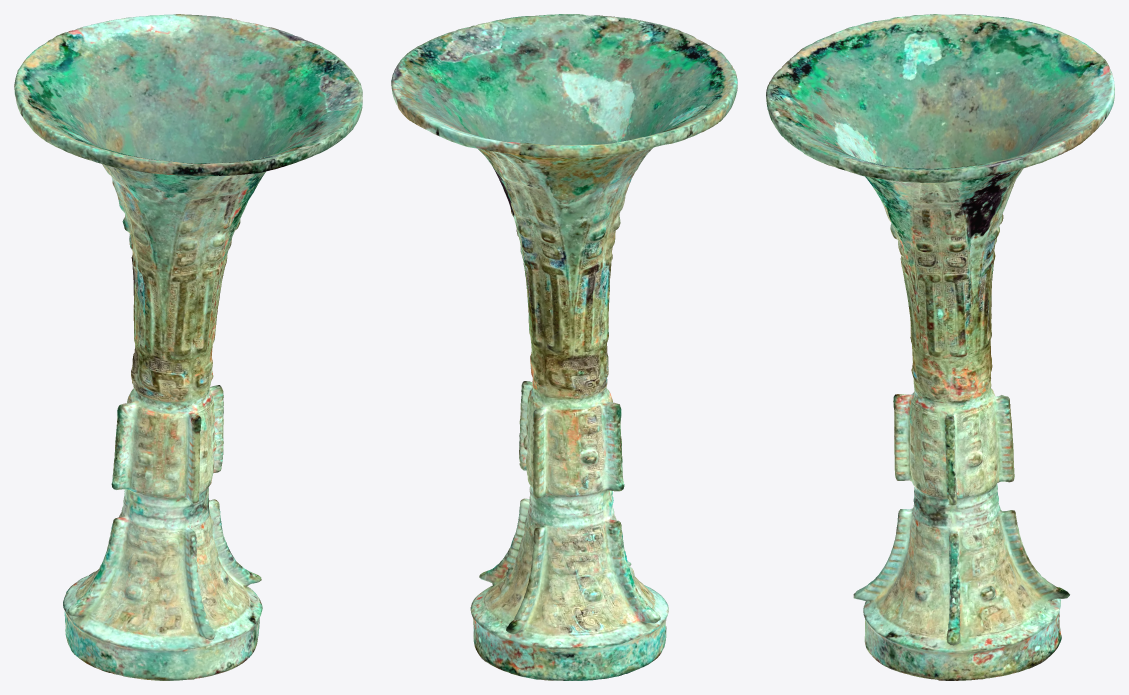
The picture shows the model from 3 angles, left to right: view 1: azimuth 30°, elevation 25°; view 2: azimuth 150°, elevation 25°; view 3: azimuth 270°, elevation 25°; orthographic projection.
Visible parts, largest first — view 1: Object_4; view 2: Object_4; view 3: Object_4.
Part boxes in pixels (left/top/right/bottom): Object_4: left=14, top=14, right=362, bottom=680; Object_4: left=391, top=14, right=737, bottom=680; Object_4: left=766, top=14, right=1114, bottom=680.
Size of the model in its own units: 0.2199 by 0.3902 by 0.2177.
1 material, 1 textured.
